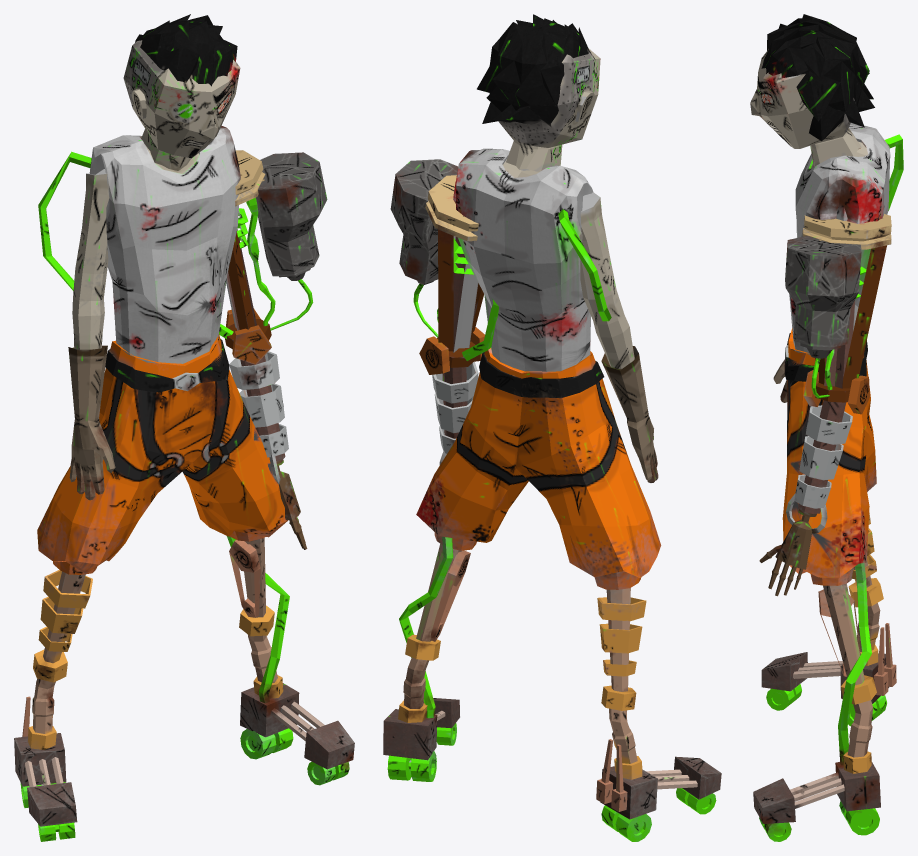
Rendered from CyborgFINALAnimation_000036.obj.
3 views of the same model, side by side, from view 1: azimuth 30°, elevation 25°; view 2: azimuth 150°, elevation 25°; view 3: azimuth 270°, elevation 25° (orthographic). The views are drawn at different scales.
Parts seen in each view (by area): view 1: CyborgMesh_Cube.002; view 2: CyborgMesh_Cube.002; view 3: CyborgMesh_Cube.002.
Part boxes in pixels (x1=…): CyborgMesh_Cube.002: x1=14, y1=14, x2=354, y2=841; CyborgMesh_Cube.002: x1=383, y1=14, x2=721, y2=841; CyborgMesh_Cube.002: x1=750, y1=14, x2=903, y2=841.
Bounding box in the file's own units: 3.99 × 9.62 × 1.77.
